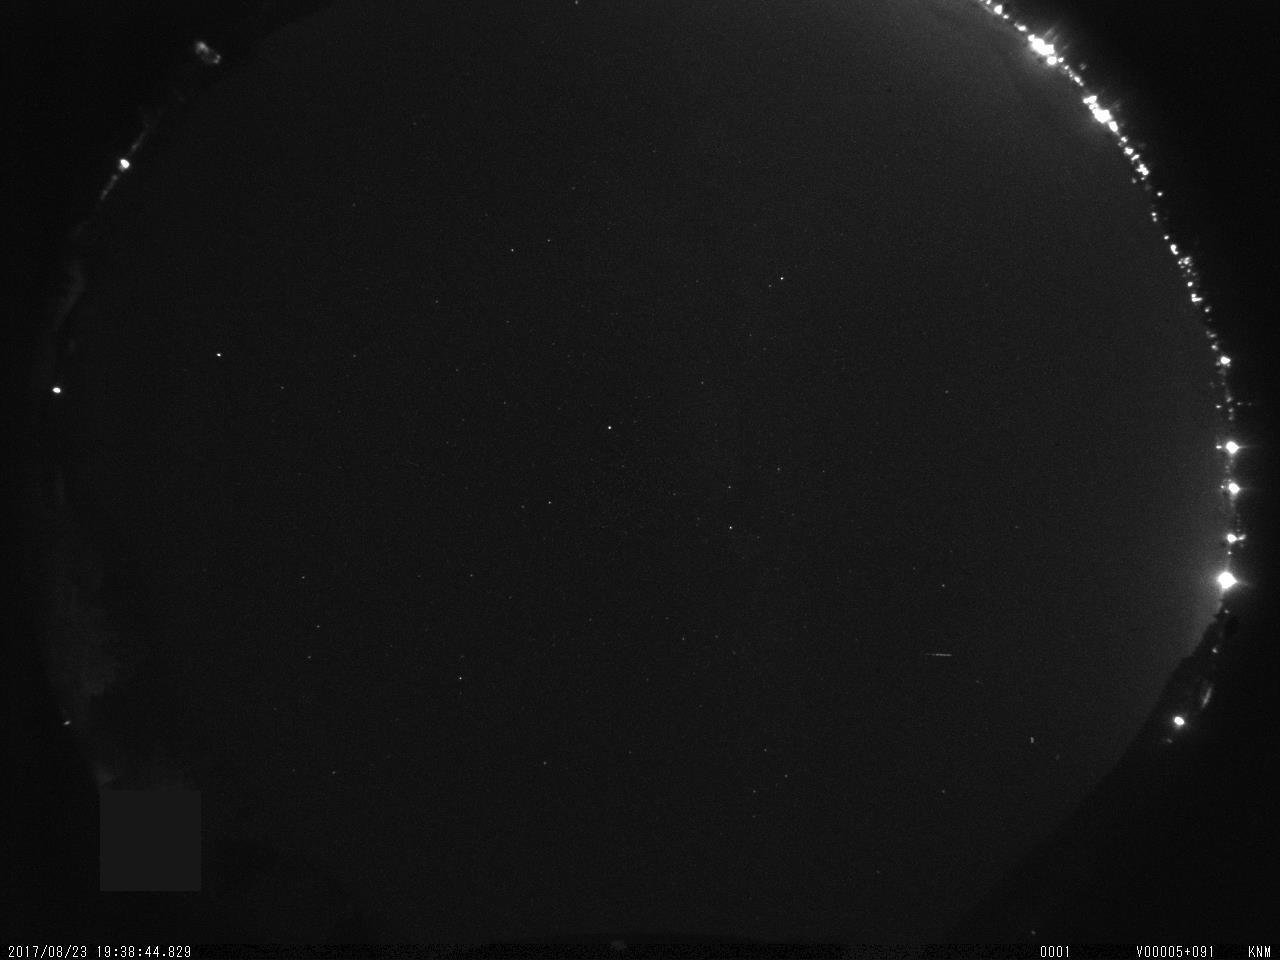Meteor: (916, 640, 968, 673)
